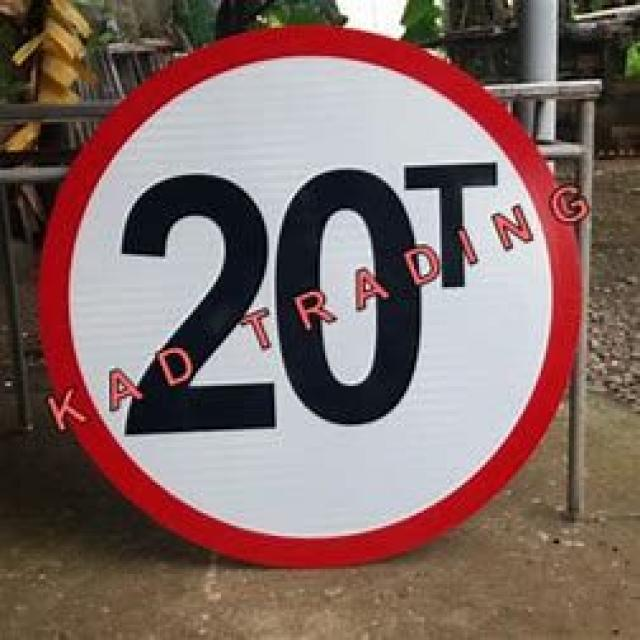load_limit: (38, 21, 579, 566)
